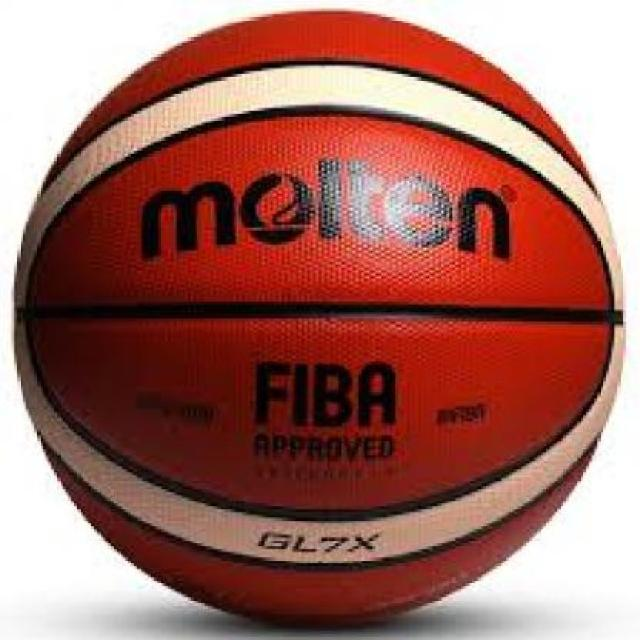basketball: (18, 14, 626, 622)
